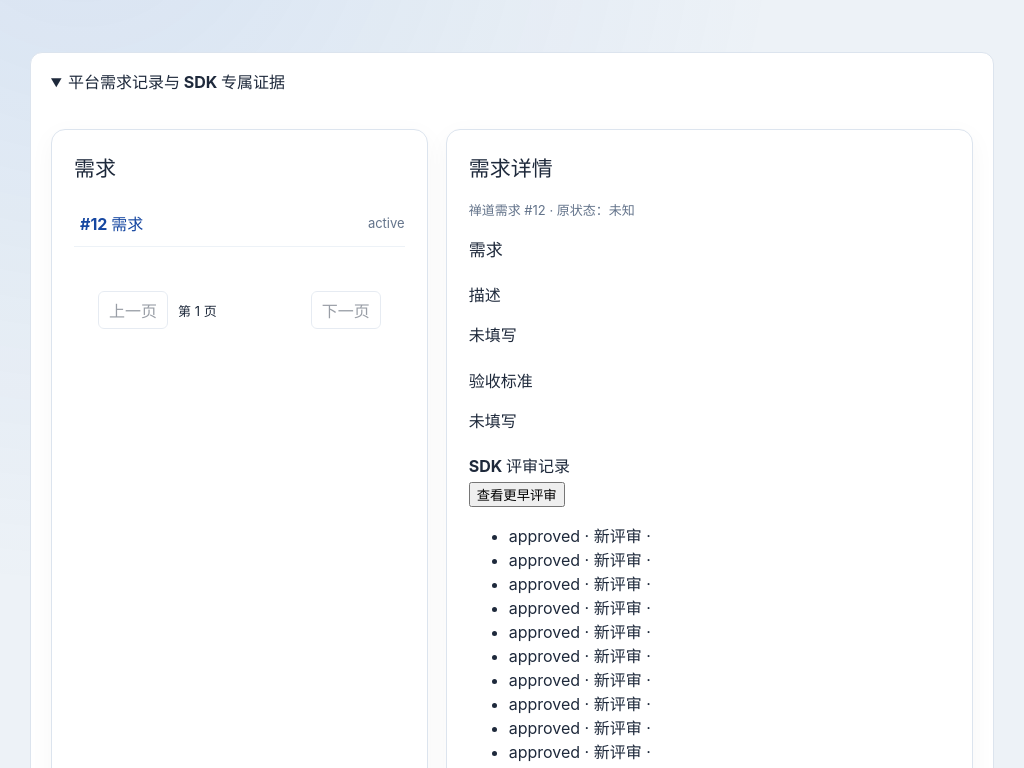
Test: can retrieve older requirement review history
Click the button "查看更早评审" at (517, 494), box [469,482,565,507]
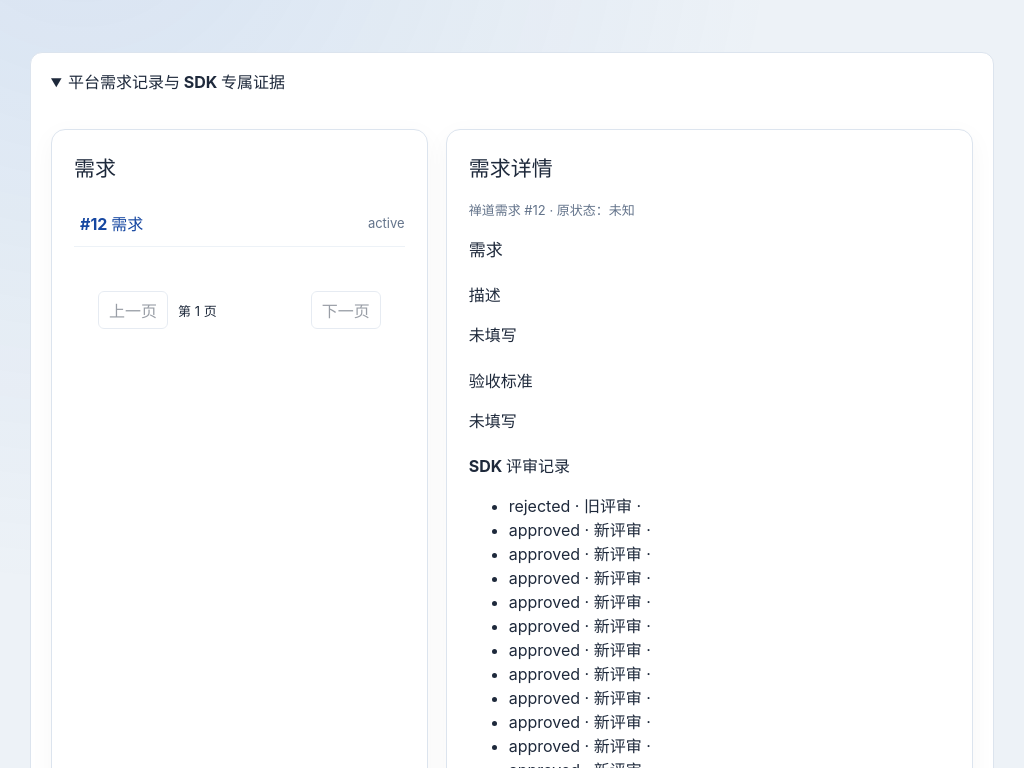
Now the text "旧评审" is shown, box [584,496,632,516]
